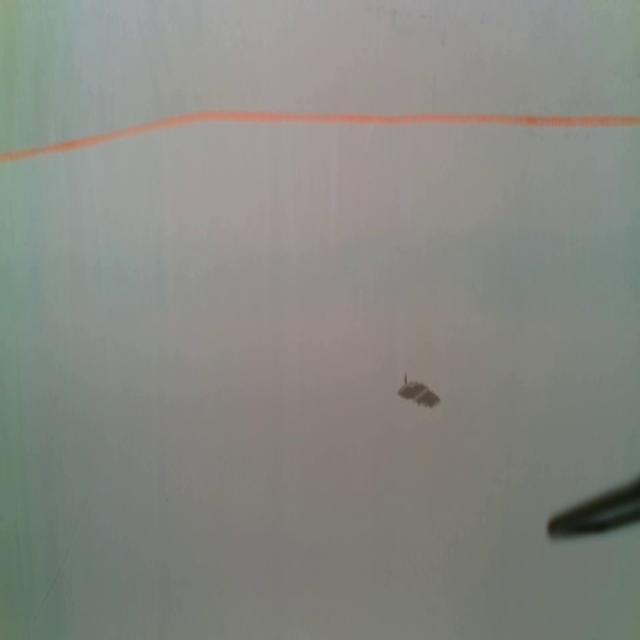color bleeding: (0, 218, 640, 322)
hole: (398, 376, 442, 412)
